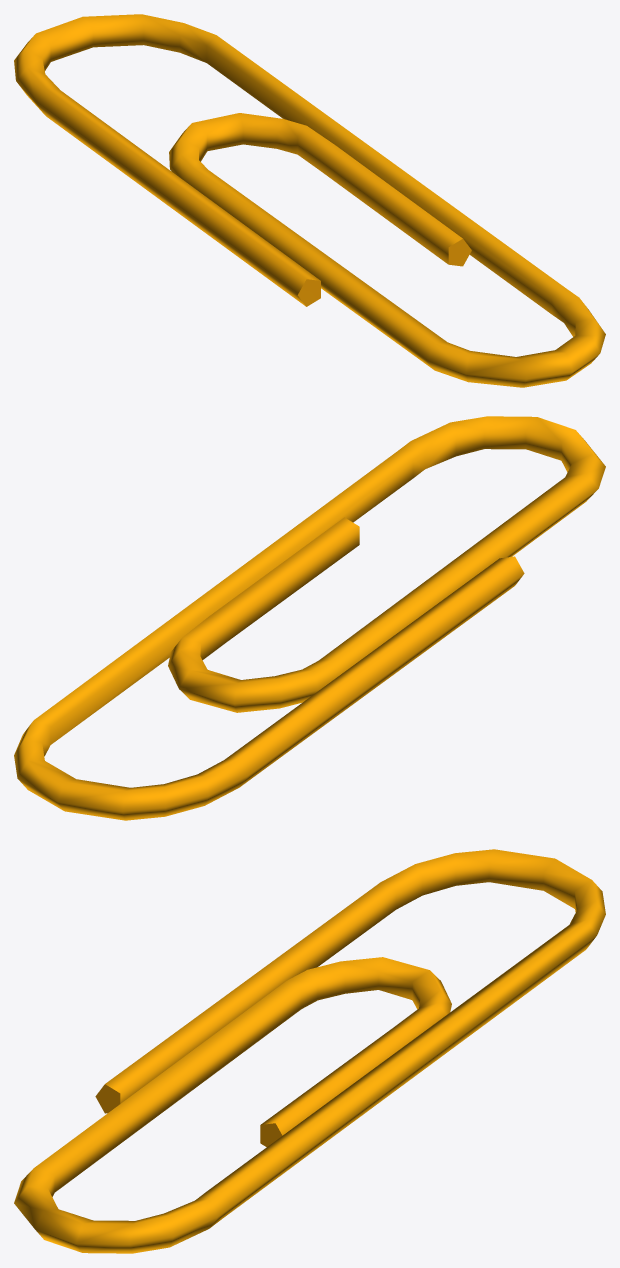
The model's file is PaperClip.fbx.
3 renders of one model, top to bottom at view 1: azimuth 30°, elevation 25°; view 2: azimuth 150°, elevation 25°; view 3: azimuth 330°, elevation 25°, orthographic. The views are drawn at different scales.
Visible parts, largest first — view 1: Paper_clip1_1; view 2: Paper_clip1_1; view 3: Paper_clip1_1.
Boxes of the visible parts, bbox=[...] form: Paper_clip1_1: bbox=[14, 14, 605, 387]; Paper_clip1_1: bbox=[14, 416, 605, 820]; Paper_clip1_1: bbox=[14, 849, 605, 1253].
Size of the model in its own units: 62.73 by 8.89 by 255.
